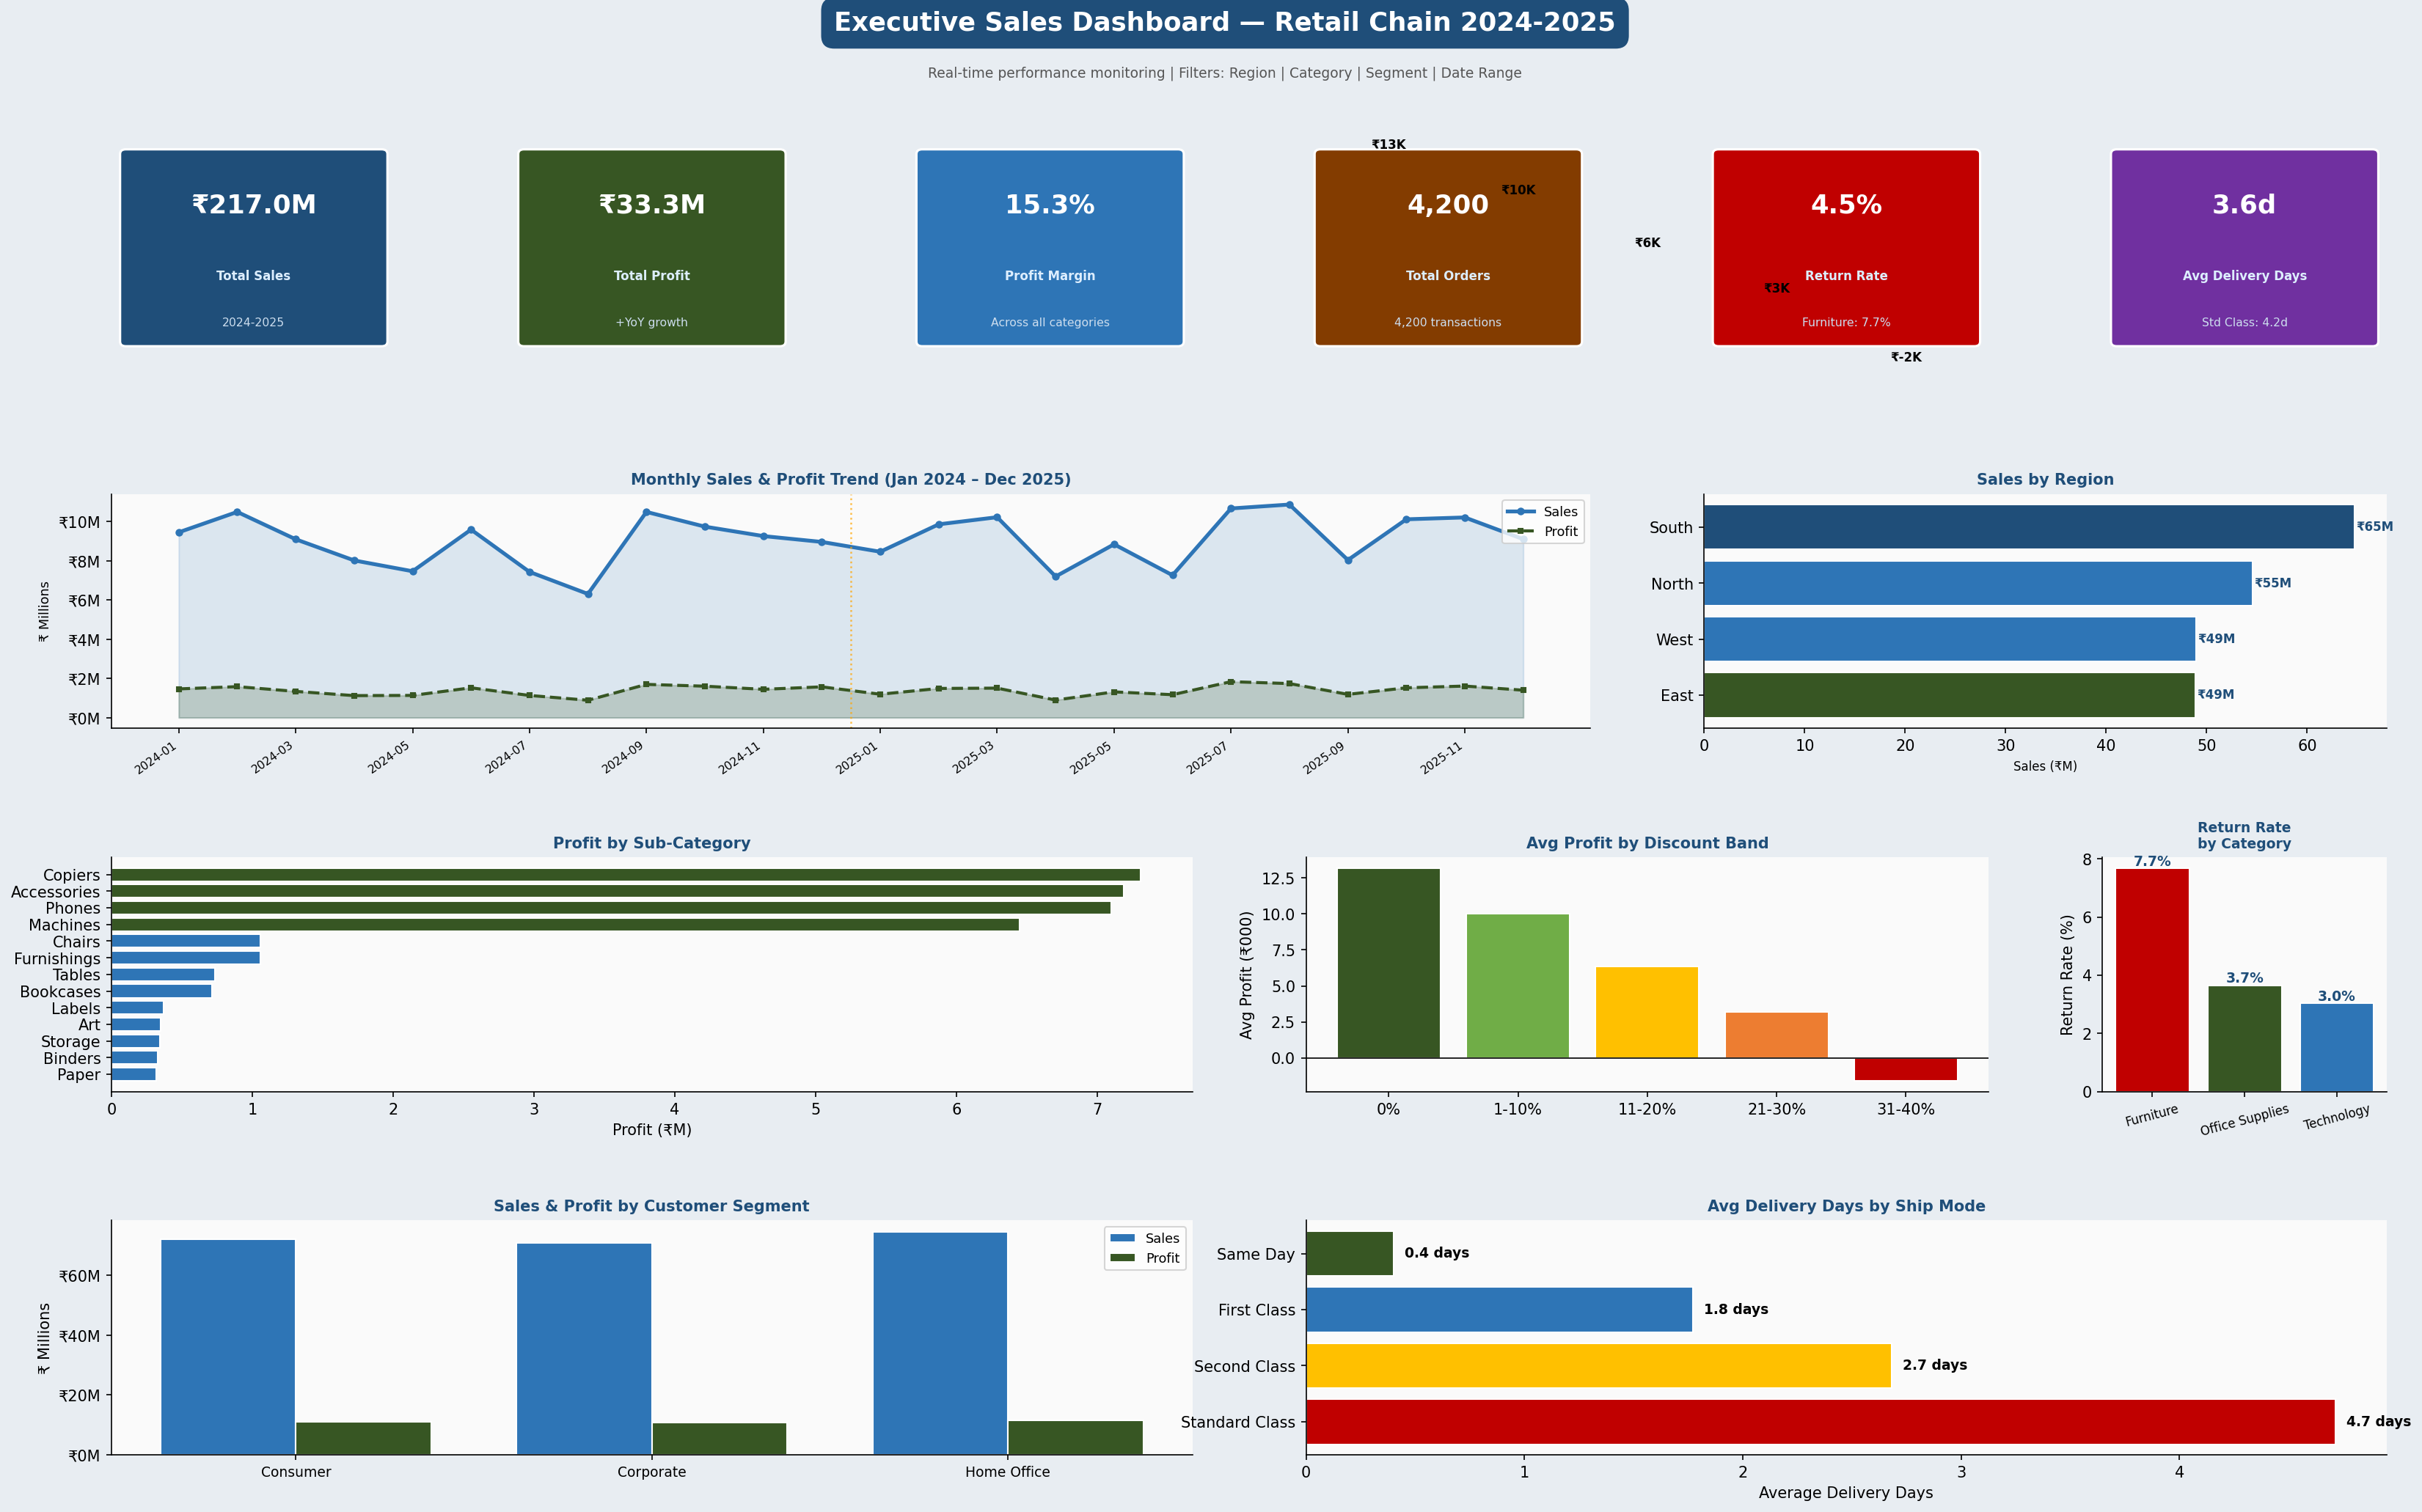

The page's visual inventory and layout, read from the dashboard file:
{"tool":"tableau","page":{"name":"Executive Sales Dashboard","canvas":[1800,1200],"ordinal":0},"visuals":[{"type":"title","box":[0,0,1.8,0.1]},{"type":"worksheet","box":[0,0.1,0.9,0.6]},{"type":"worksheet","box":[0.9,0.1,0.9,0.6]},{"type":"worksheet","box":[0,0.6,0.6,0.6]},{"type":"worksheet","box":[0.6,0.6,0.6,0.6]},{"type":"worksheet","box":[1.2,0.6,0.6,0.6]}]}

Visuals, with their boxes on the page's 1800x1200 design canvas (x1, y1, x2, y2). These are canvas units, not pixel positions in the 2422x1512 screenshot, which may show the page scaled, cropped or inside an application window:
title: 0 0 2 0
worksheet: 0 0 1 1
worksheet: 1 0 2 1
worksheet: 0 1 1 1
worksheet: 1 1 1 1
worksheet: 1 1 2 1
